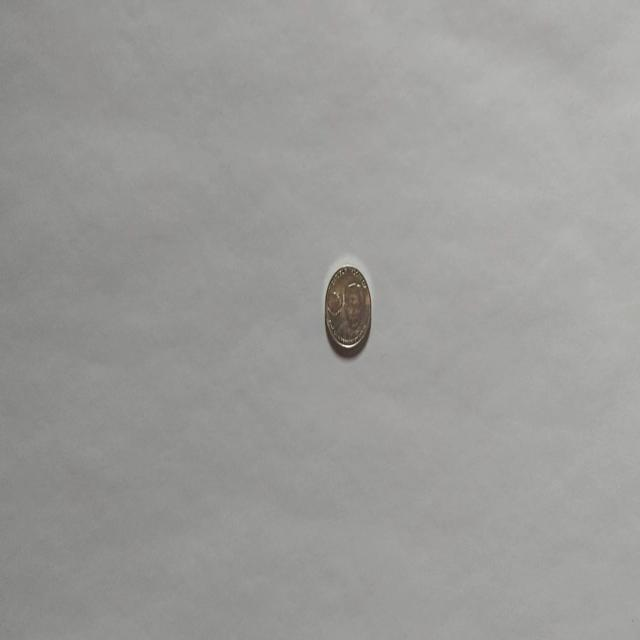seratus rupiah: (324, 263, 372, 351)
